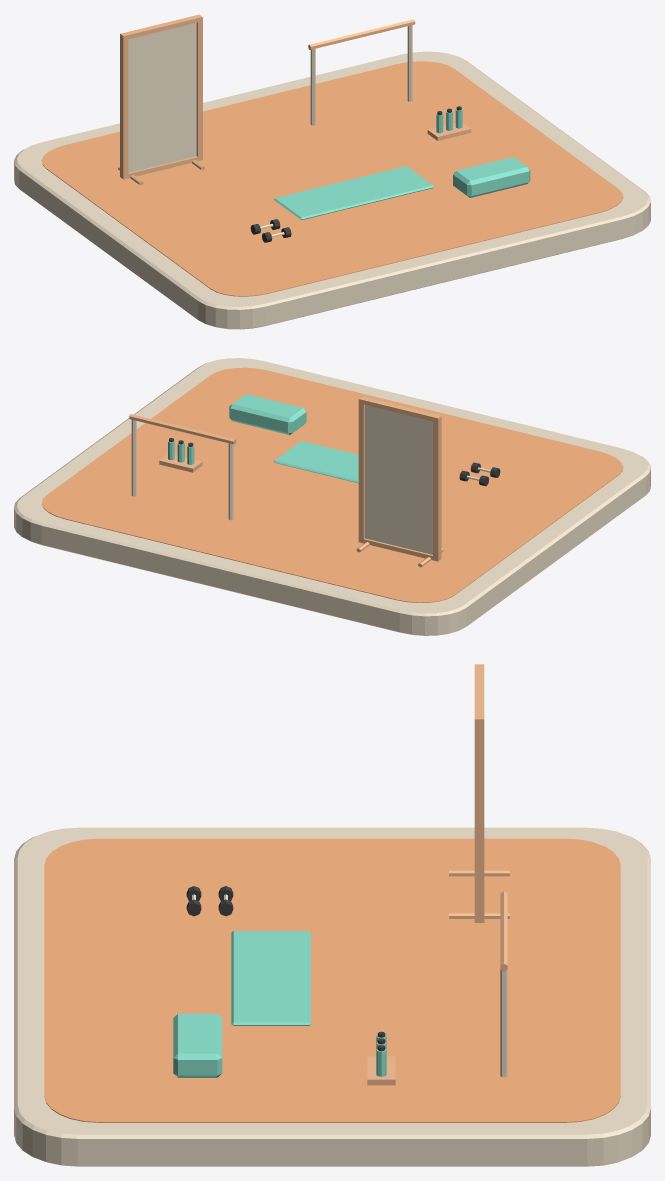
The model's file is room.fbx.
3 views of the same model, one above another, from view 1: azimuth 30°, elevation 25°; view 2: azimuth 150°, elevation 25°; view 3: azimuth 270°, elevation 25° (orthographic). The views are drawn at different scales.
Visible parts, largest first — view 1: COM-02 Floor Surface, COM-01 Rounded Base Direct, Mirror face, Exercise mat, Step, Frame, Frame.001, Frame.003, Bar, Post, Post.001; view 2: COM-02 Floor Surface, COM-01 Rounded Base Direct, Mirror face, Step, Exercise mat, Frame, Frame.001, Bar, Frame.003, Post, Post.001, Frame.002 (+1 smaller); view 3: COM-02 Floor Surface, COM-01 Rounded Base Direct, Exercise mat, Step, Frame.001, Post.001.
Part boxes in pixels (x1=…): COM-02 Floor Surface: x1=41, y1=61, x2=623, y2=296; COM-01 Rounded Base Direct: x1=14, y1=51, x2=650, y2=329; Mirror face: x1=128, y1=23, x2=196, y2=172; Exercise mat: x1=274, y1=166, x2=434, y2=219; Step: x1=453, y1=157, x2=530, y2=197; Frame: x1=120, y1=35, x2=128, y2=177; Frame.001: x1=196, y1=21, x2=202, y2=159; Frame.003: x1=120, y1=14, x2=202, y2=39; Bar: x1=308, y1=19, x2=415, y2=49; Post: x1=310, y1=48, x2=315, y2=125; Post.001: x1=407, y1=25, x2=412, y2=101; COM-02 Floor Surface: x1=42, y1=367, x2=623, y2=602; COM-01 Rounded Base Direct: x1=14, y1=358, x2=650, y2=635; Mirror face: x1=365, y1=405, x2=432, y2=554; Step: x1=229, y1=394, x2=306, y2=434; Exercise mat: x1=274, y1=441, x2=358, y2=483; Frame: x1=433, y1=417, x2=441, y2=560; Frame.001: x1=358, y1=400, x2=364, y2=541; Bar: x1=129, y1=414, x2=236, y2=444; Frame.003: x1=358, y1=396, x2=441, y2=422; Post: x1=228, y1=443, x2=233, y2=520; Post.001: x1=131, y1=419, x2=136, y2=496; Frame.002: x1=358, y1=538, x2=441, y2=561; COM-02 Floor Surface: x1=44, y1=838, x2=620, y2=1122; COM-01 Rounded Base Direct: x1=14, y1=827, x2=650, y2=1166; Exercise mat: x1=231, y1=931, x2=310, y2=1025; Step: x1=173, y1=1013, x2=222, y2=1077; Frame.001: x1=474, y1=721, x2=484, y2=921; Post.001: x1=500, y1=970, x2=507, y2=1077.
Size of the model in its own units: 600 by 215 by 520.
